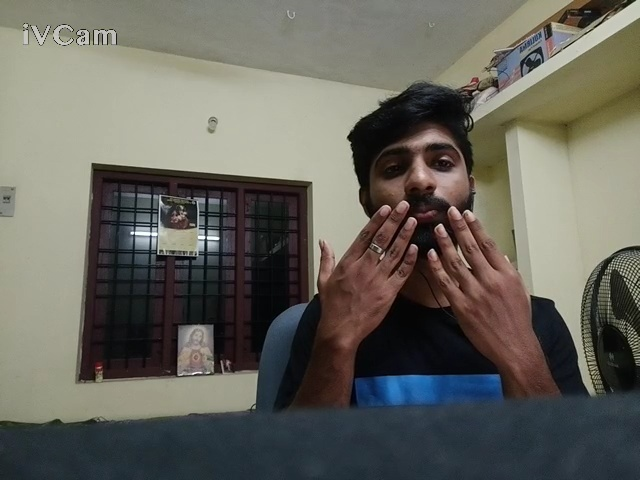Thank You: (292, 192, 579, 480)
